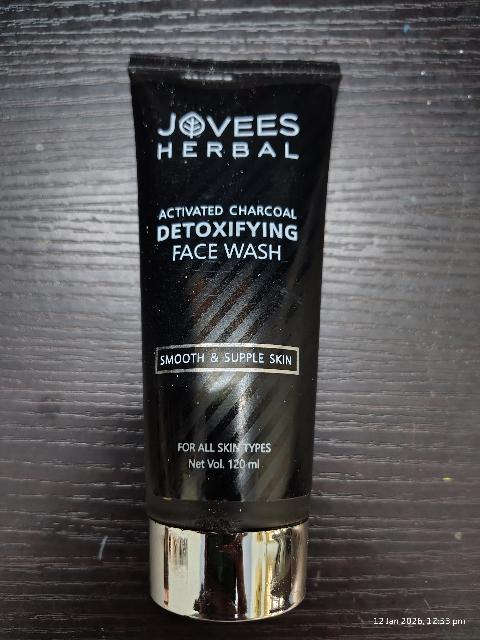jovees herbal: (122, 50, 342, 626)
